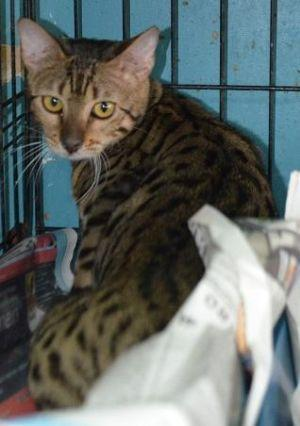bengal: (6, 8, 172, 165)
